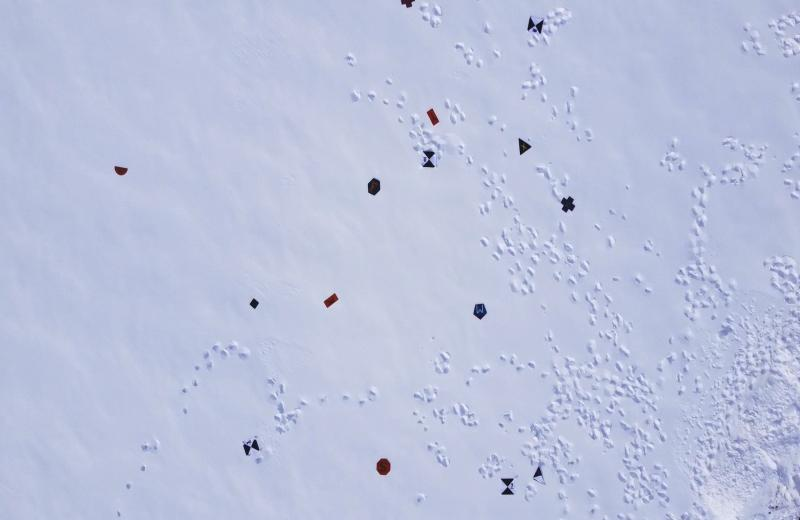Cross: (560, 195, 576, 213), (401, 0, 416, 11)
Hexagon: (366, 176, 382, 198)
Octagon: (376, 458, 391, 476)
Pentagon: (473, 302, 487, 321)
Rectangle: (426, 107, 441, 127), (323, 293, 338, 309)
Semi Circle: (113, 165, 128, 177)
Square: (250, 298, 260, 310)
Triangle: (517, 136, 532, 156)
